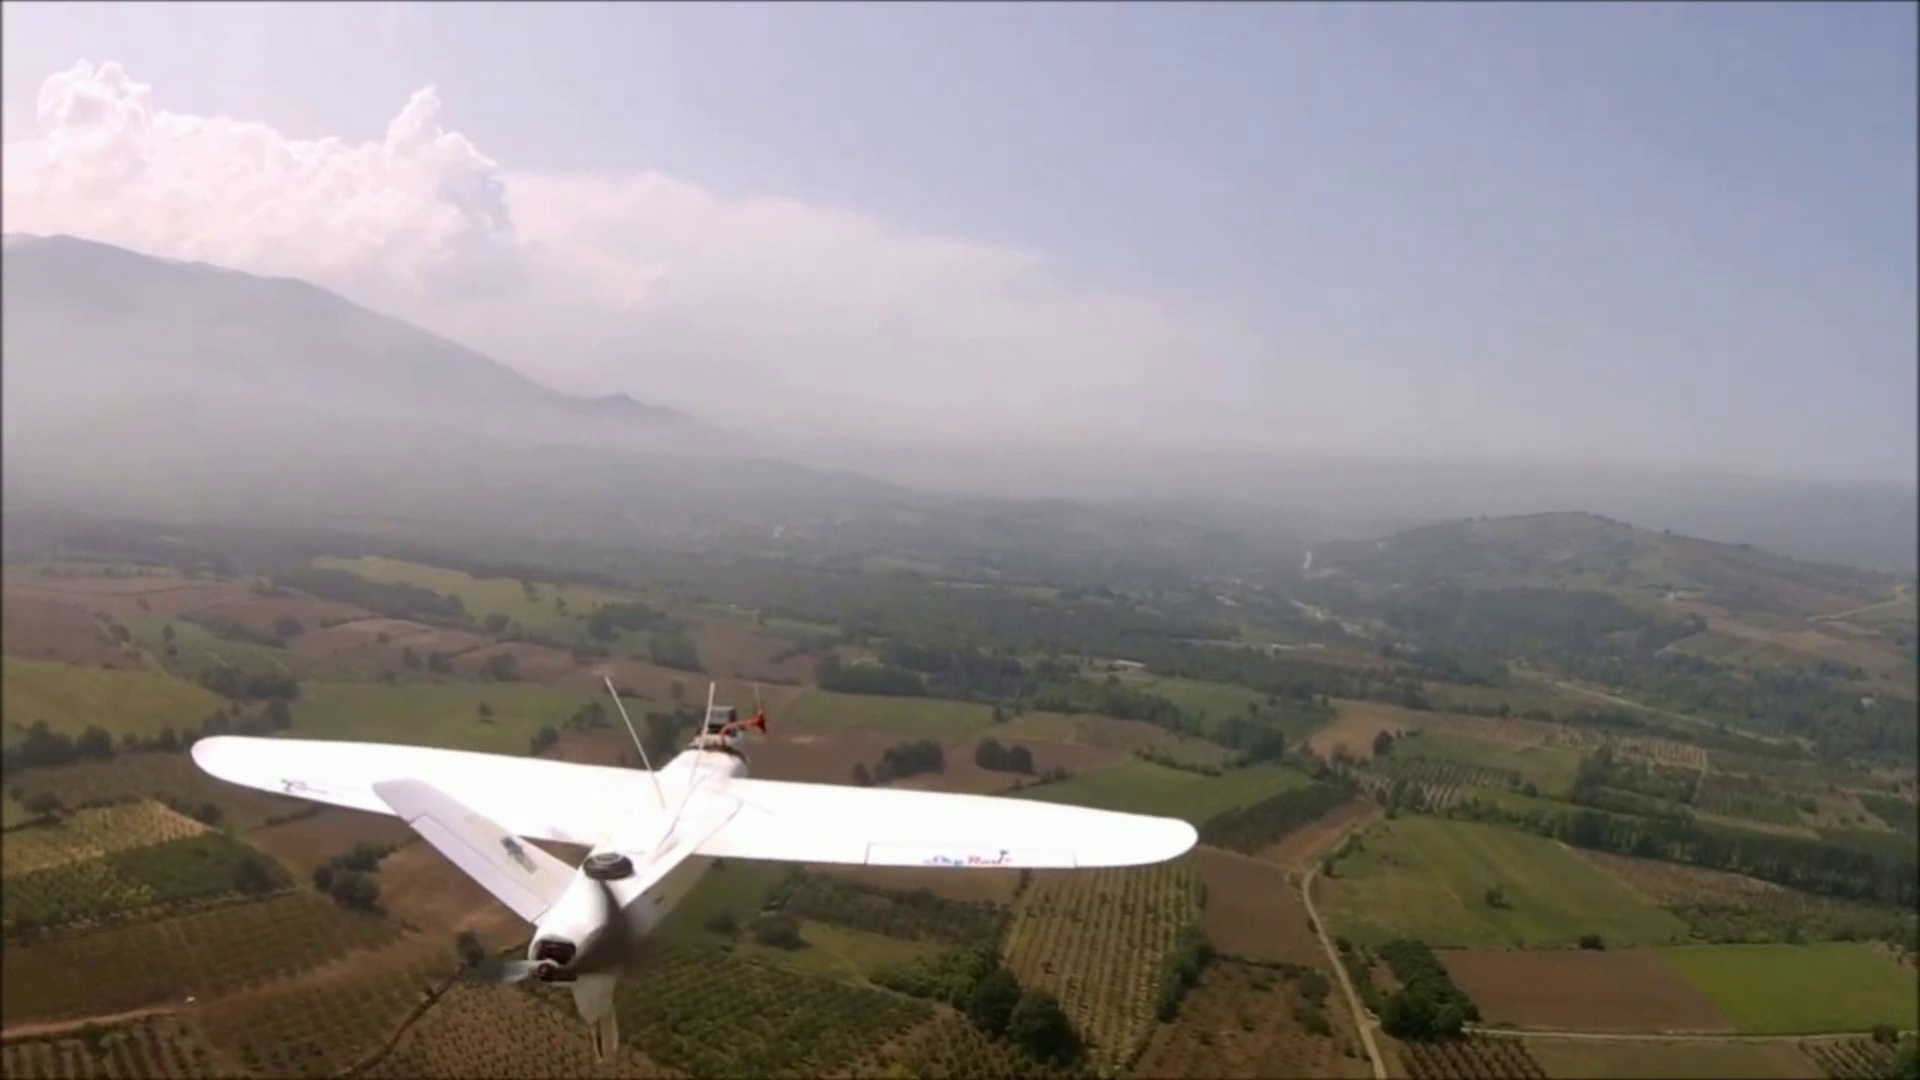airplane: (194, 682, 1203, 1034)
